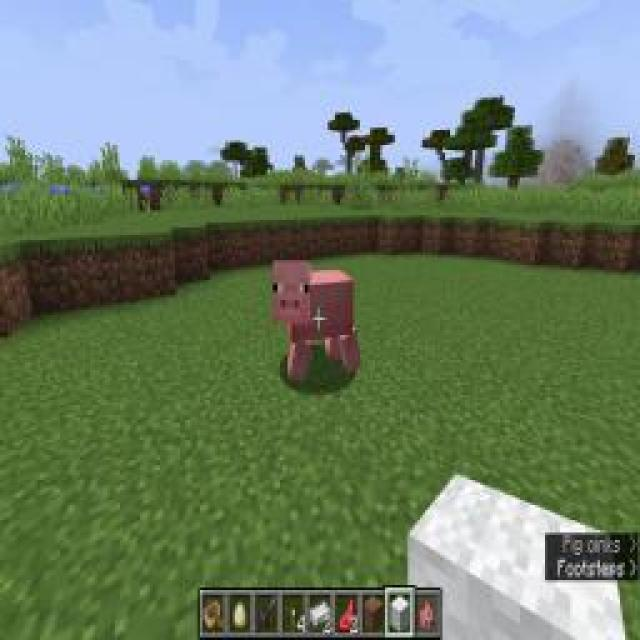Pig: (271, 255, 364, 387)
